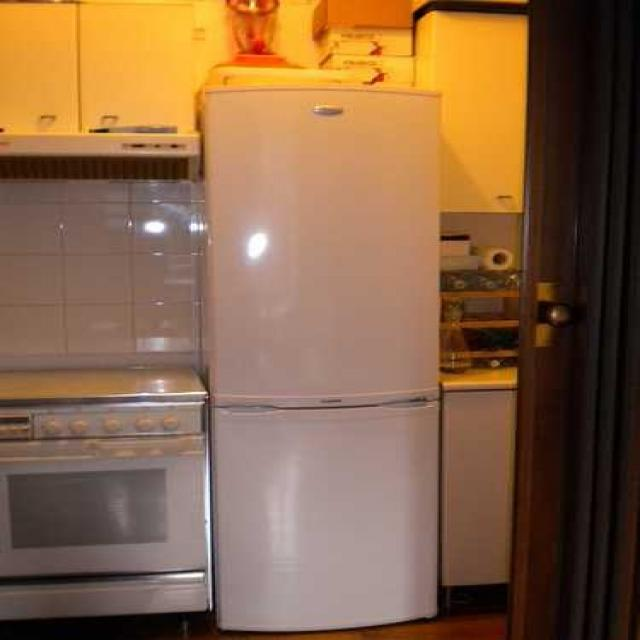refrigerator: (206, 30, 444, 635)
